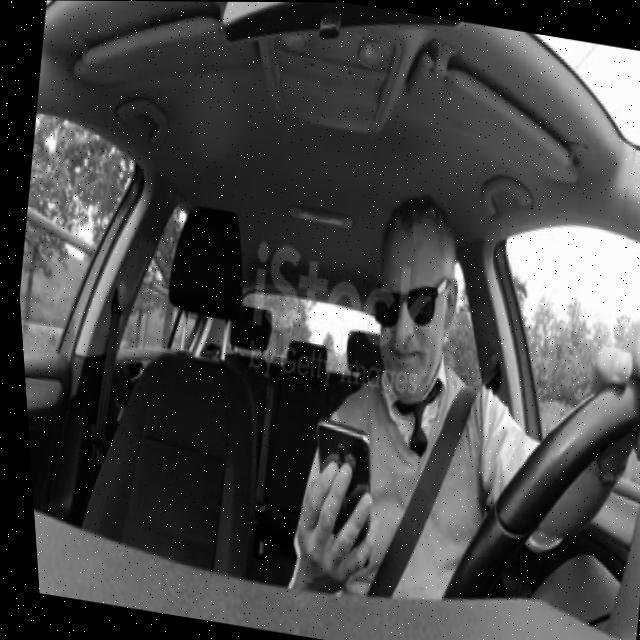PhoneCall: (287, 418, 383, 572)
